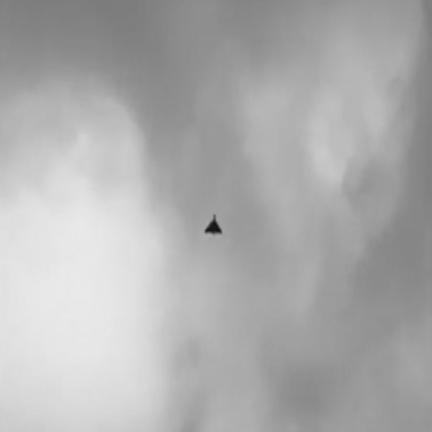Shahed: (205, 215, 222, 234)
